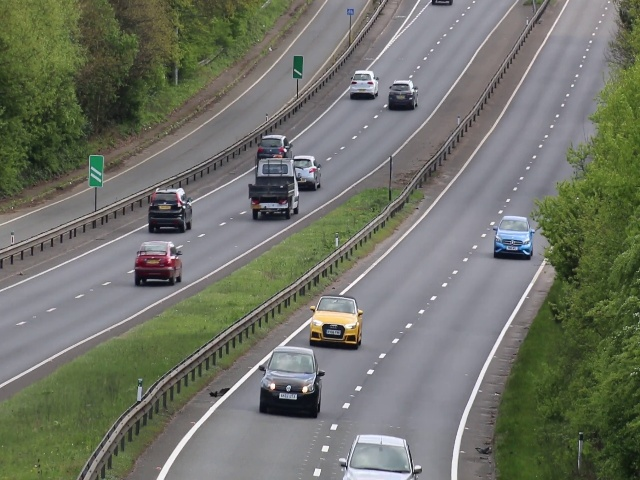car: (263, 346, 320, 419), (308, 292, 363, 351), (343, 436, 415, 480), (252, 162, 298, 219), (135, 240, 182, 286), (146, 187, 194, 231), (495, 215, 535, 262), (254, 134, 292, 163), (387, 77, 419, 111), (295, 154, 324, 191), (350, 68, 380, 99)
